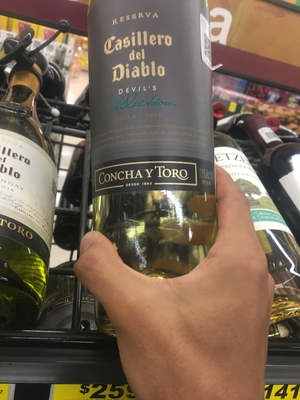casillero del diablo devils collection verde: (76, 3, 230, 255)
